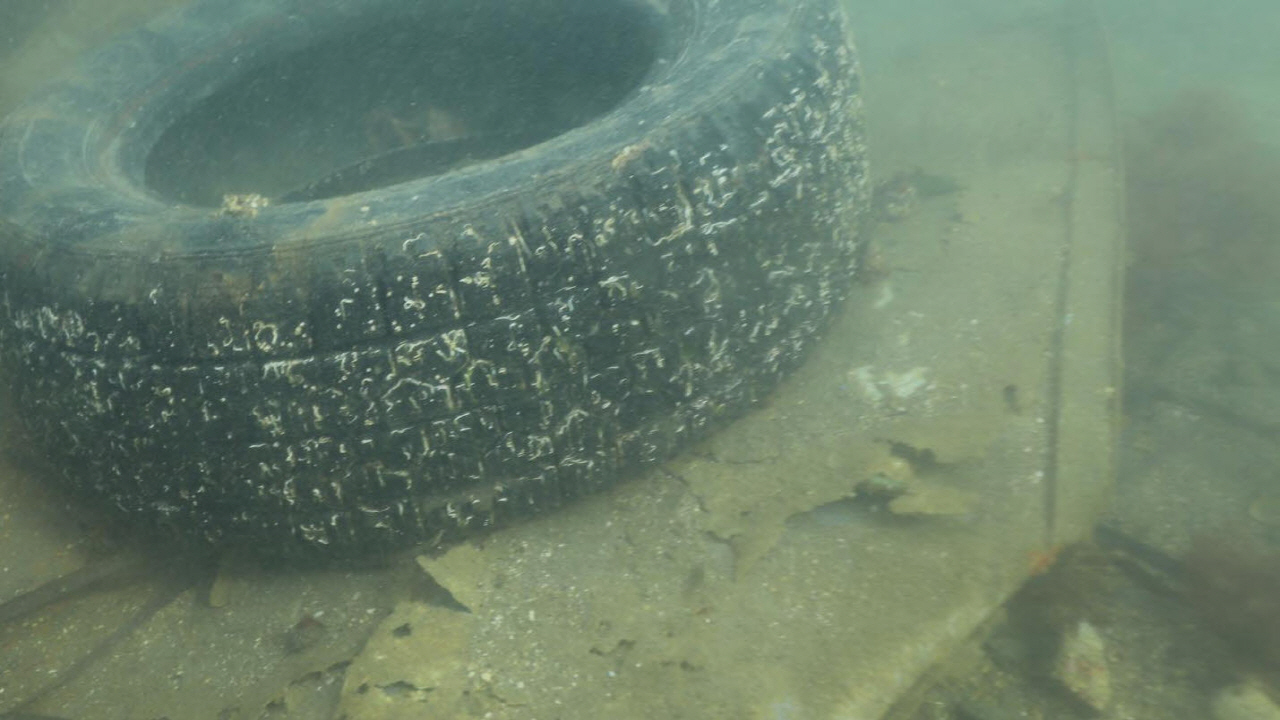tire: (0, 0, 868, 563)
